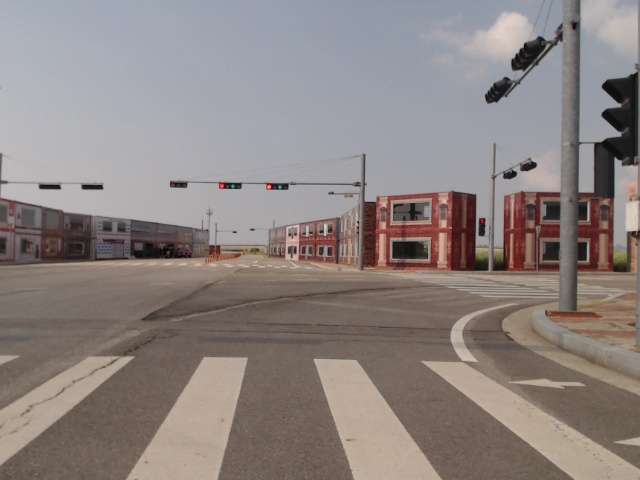left_green_4: (266, 183, 288, 190), (219, 183, 241, 188)
